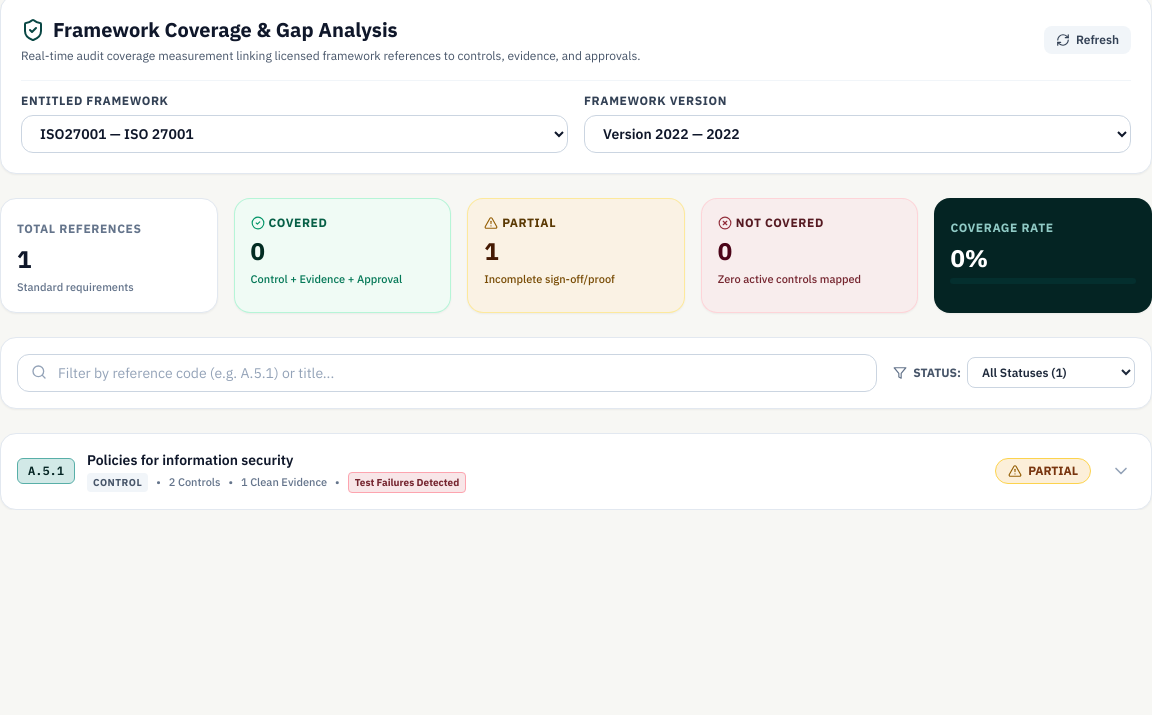
Test: Phase 3 Increment 4.3 — Control Testing Frontend UI › Scenario 4 — Framework References with Mixed Control Results › should transparently display "Test Failures Detected" and demote reference when a mapped control fails
Expected: the text "Test Failures Detected" is shown, [348,472,466,492]
Expected: the text "PARTIAL" is shown, [995,458,1091,484]
// Expand reference drill-down
Click the text "A.5.1".
click(46, 471)  # box [17,458,75,484]
(page scrolled)
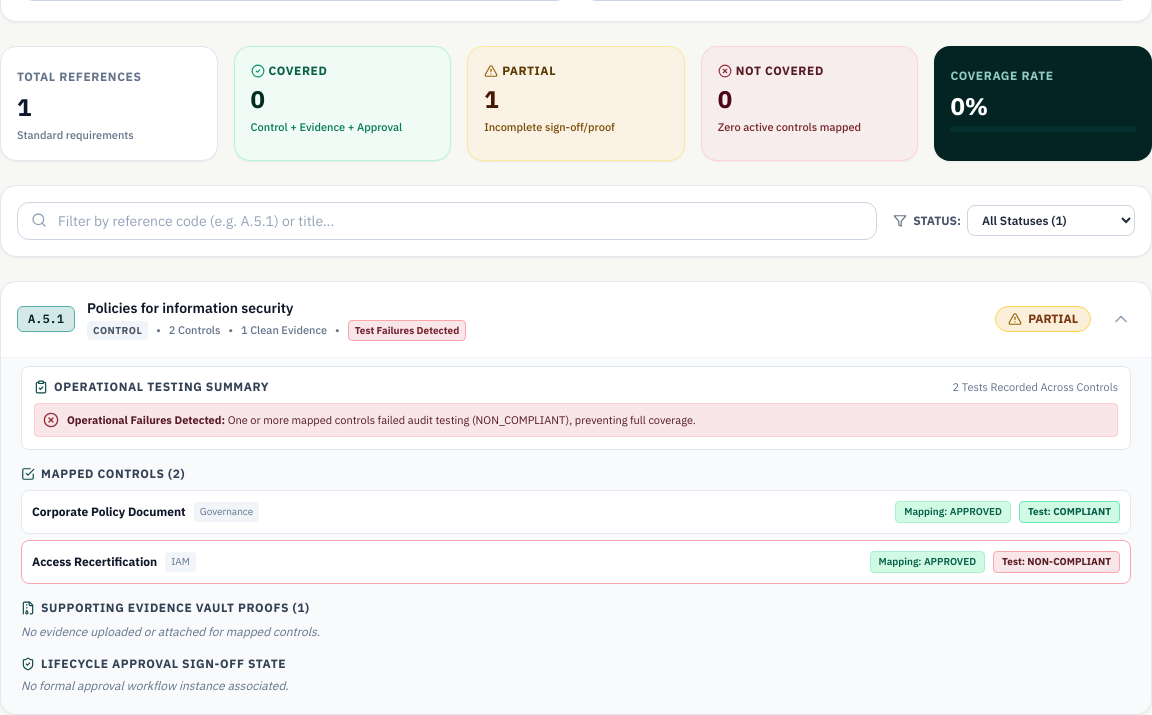
Result: the text "Operational Failures Detected:" is shown at [67,412,225,426]
Result: the text "Test: COMPLIANT" is shown at [1019,500,1120,522]
Result: the text "Test: NON-COMPLIANT" is shown at [993,550,1120,572]
